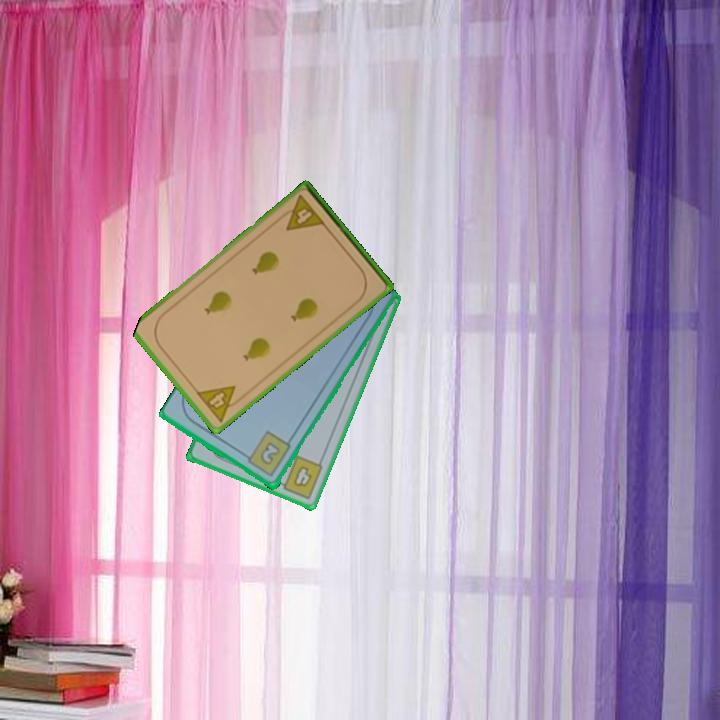2b: (240, 428, 294, 480)
4b: (273, 452, 326, 502)
4p: (192, 382, 247, 425), (275, 191, 328, 234)
